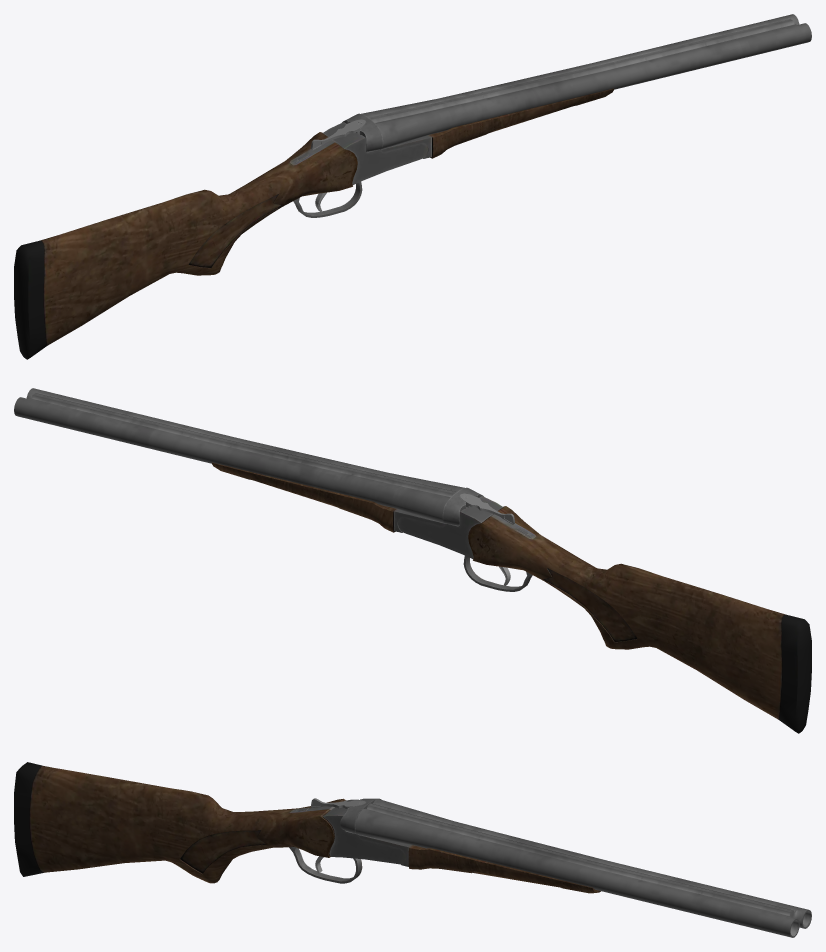
Rendered from gun-doubleBarrel.glb.
3 renders of one model, top to bottom at view 1: azimuth 30°, elevation 25°; view 2: azimuth 150°, elevation 25°; view 3: azimuth 330°, elevation 25°, orthographic.
Visible parts, largest first — view 1: stock_low, barrel_low, forearm_low, chambers_low; view 2: stock_low, barrel_low, forearm_low, chambers_low; view 3: stock_low, barrel_low, forearm_low, chambers_low, release_low.
Boxes of the visible parts, bbox=[...] form: stock_low: bbox=[14, 122, 427, 359]; barrel_low: bbox=[361, 14, 811, 149]; forearm_low: bbox=[379, 88, 613, 158]; chambers_low: bbox=[342, 113, 383, 151]; stock_low: bbox=[398, 496, 811, 733]; barrel_low: bbox=[14, 388, 464, 523]; forearm_low: bbox=[212, 462, 446, 532]; chambers_low: bbox=[442, 487, 483, 525]; stock_low: bbox=[14, 762, 405, 883]; barrel_low: bbox=[355, 799, 811, 937]; forearm_low: bbox=[357, 834, 600, 893]; chambers_low: bbox=[340, 798, 381, 833]; release_low: bbox=[311, 798, 365, 808].
Size of the model in its own units: 1.67 by 0.3182 by 0.1046.
Materials: 6 (6 with a texture image).
